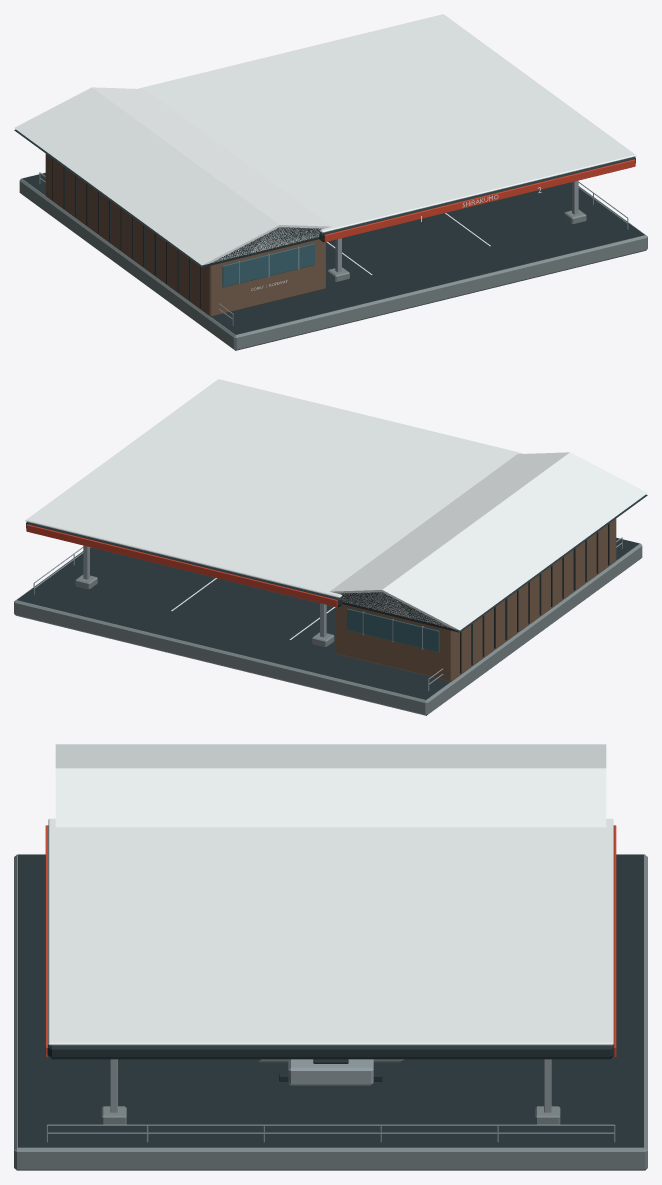
File: shirakumo-tram-v1.glb
3 renders of one model, top to bottom at view 1: azimuth 30°, elevation 25°; view 2: azimuth 150°, elevation 25°; view 3: azimuth 270°, elevation 25°, orthographic. The views are drawn at different scales.
Visible parts, largest first — view 1: PowderStation__Snow and ivory lettering, PowderStation__Graphite hardware, PowderStation__Basalt concrete foundation, PowderStation__Cedar cladding, PowderStation__SHIRAKUMO vermilion, PowderStation__Opaque glacier blue glazing, PowderStation__Warm satin aluminium; view 2: PowderStation__Snow and ivory lettering, PowderStation__Graphite hardware, PowderStation__Basalt concrete foundation, PowderStation__Cedar cladding, PowderStation__SHIRAKUMO vermilion, PowderStation__Opaque glacier blue glazing, PowderStation__Warm satin aluminium; view 3: PowderStation__Snow and ivory lettering, PowderStation__Graphite hardware, PowderStation__Basalt concrete foundation, PowderStation__Warm satin aluminium, PowderTowerHead__Warm satin aluminium, PowderStation__SHIRAKUMO vermilion.
Boxes of the visible parts, box(x1,y1,x2,y2) form: PowderStation__Snow and ivory lettering: box(14, 14, 636, 290); PowderStation__Graphite hardware: box(14, 129, 644, 334); PowderStation__Basalt concrete foundation: box(19, 172, 647, 350); PowderStation__Cedar cladding: box(45, 154, 325, 316); PowderStation__SHIRAKUMO vermilion: box(324, 159, 635, 242); PowderStation__Opaque glacier blue glazing: box(222, 243, 314, 287); PowderStation__Warm satin aluminium: box(39, 172, 628, 325); PowderStation__Snow and ivory lettering: box(25, 379, 647, 640); PowderStation__Graphite hardware: box(17, 494, 647, 699); PowderStation__Basalt concrete foundation: box(14, 537, 642, 715); PowderStation__Cedar cladding: box(336, 519, 616, 681); PowderStation__SHIRAKUMO vermilion: box(26, 524, 337, 607); PowderStation__Opaque glacier blue glazing: box(347, 608, 439, 652); PowderStation__Warm satin aluminium: box(33, 537, 622, 690); PowderStation__Snow and ivory lettering: box(48, 744, 613, 1045); PowderStation__Graphite hardware: box(18, 825, 643, 1147); PowderStation__Basalt concrete foundation: box(14, 854, 647, 1170); PowderStation__Warm satin aluminium: box(46, 1059, 615, 1142); PowderTowerHead__Warm satin aluminium: box(288, 1059, 373, 1085); PowderStation__SHIRAKUMO vermilion: box(45, 825, 616, 1057).
Size of the model in its own units: 43.9 by 12.82 by 38.
